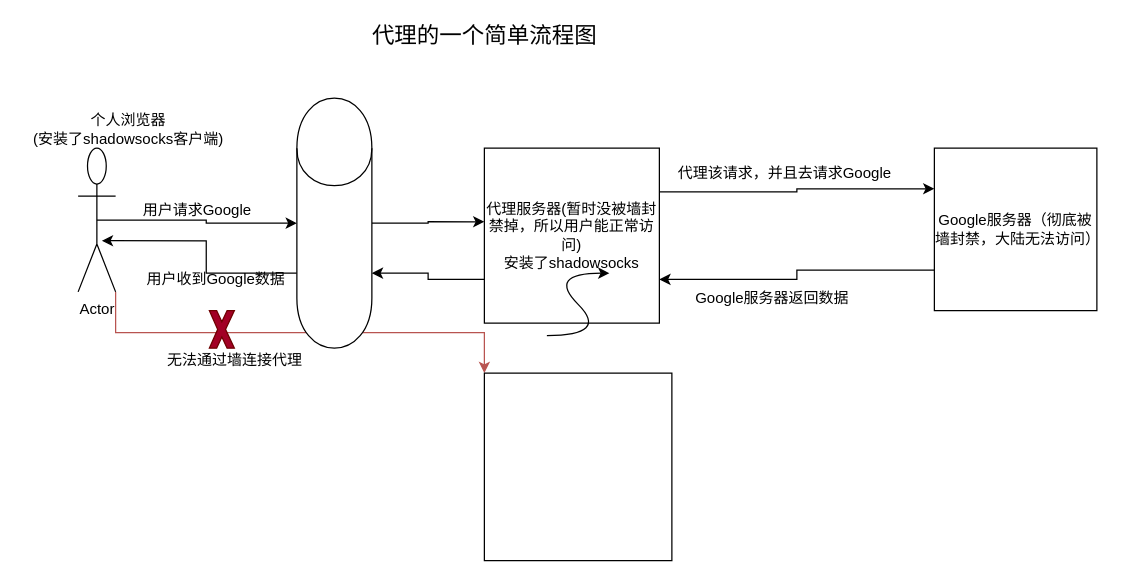
Some shapes in this 1121 by 583 pixel diagram are drawn without their labels. Here are the shapes that lost their labels. From the top down, the centre of each, then its label:
At point (334, 222): "邪恶的GFW, 墙".
At point (577, 466): "被墙封禁掉的代理服务器， 用户是无法连接的，也就没法翻墙访问到外网的信息".
